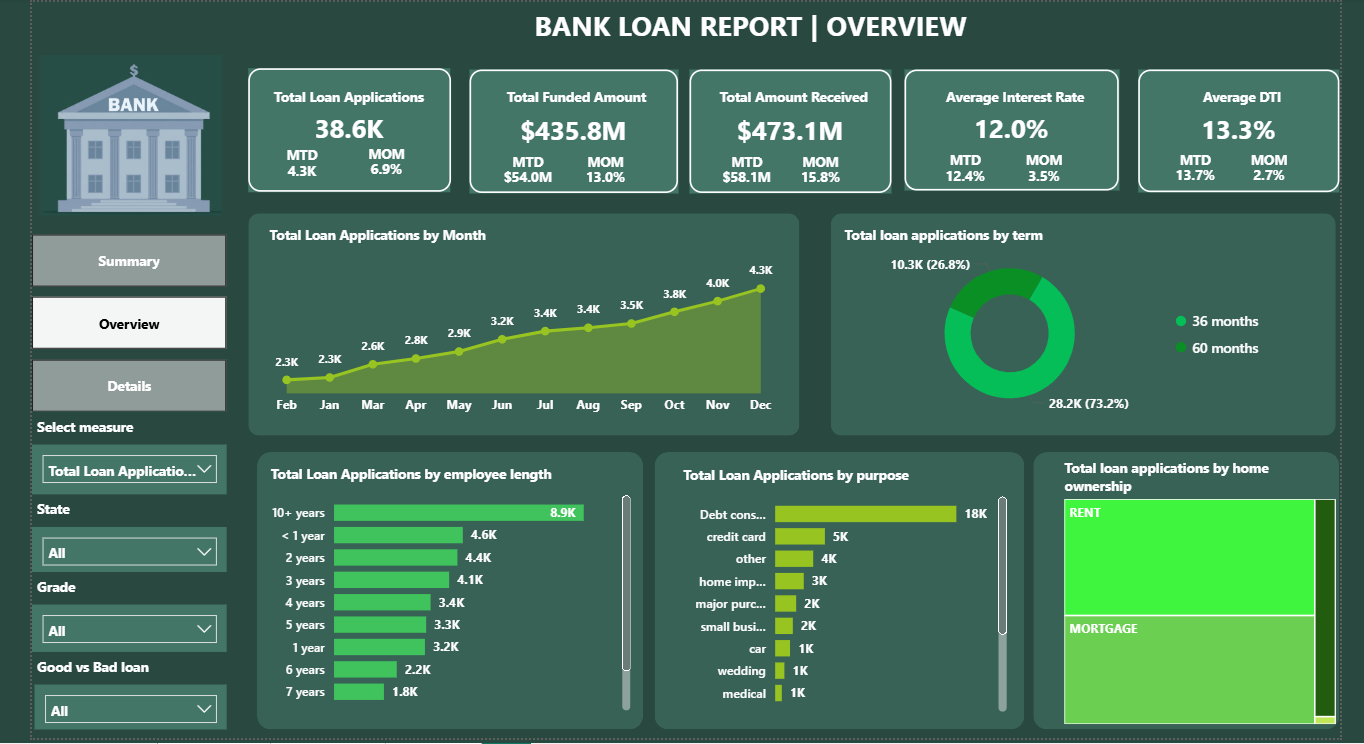

The page's visual inventory and layout, read from the dashboard file:
{"tool":"powerbi","page":{"name":"Overview","canvas":[1280,720],"ordinal":1},"visuals":[{"type":"textbox","box":[435.3,0,535.6,52.6],"z":0},{"type":"card","title":"Total Loan Applications","fields":{"Values":["financial_loan.Total funded Amount"]},"box":[428,66,204.2,121.1],"z":0,"group":"g1"},{"type":"card","title":"Total Loan Applications","fields":{"Values":["financial_loan.Total Amount Received"]},"box":[643.2,66,197.6,121.1],"z":0,"group":"g4"},{"type":"card","title":"Total Loan Applications","fields":{"Values":["financial_loan.Avg Interest Rate"]},"box":[853.5,66,209.9,118.6],"z":0,"group":"g6"},{"type":"card","title":"Total Loan Applications","fields":{"Values":["financial_loan.Avg DTI"]},"box":[1082.2,66,196.9,119.8],"z":0,"group":"g7"},{"type":"card","title":"Total Loan Applications","fields":{"Values":["financial_loan.Total Loan Applications"]},"box":[211.6,64.8,198.1,121.1],"z":1000,"group":"g11"},{"type":"card","title":"MTD","fields":{"Values":["financial_loan.MTD Avg Int Rate"]},"box":[873.9,145.1,77.2,39.5],"z":1000,"group":"g6"},{"type":"card","title":"MTD","fields":{"Values":["financial_loan.MTD Avg DTI"]},"box":[1101.3,145.9,72.5,39.9],"z":1000,"group":"g7"},{"type":"card","title":"MTD","fields":{"Values":["financial_loan.MTD Funded Amount"]},"box":[447.9,146.7,75.2,40.4],"z":1000,"group":"g1"},{"type":"card","title":"MTD","fields":{"Values":["financial_loan.MTD Total Amount Received"]},"box":[662.4,146.7,72.7,40.4],"z":1000,"group":"g4"},{"type":"shape","box":[211.6,206.7,539.3,217.7],"z":1000},{"type":"group","id":"g1","title":"Group 2","box":[428,66,204.2,121.1],"z":1001,"group":"g9"},{"type":"group","id":"g2","title":"Group 2","box":[643.2,66,197.6,121.1],"z":1001,"group":"g10"},{"type":"group","id":"g3","title":"Group 3","box":[1082.2,66,196.9,119.8],"z":2000},{"type":"textbox","box":[873.9,77.9,174.9,31.6],"z":2000,"group":"g6"},{"type":"textbox","box":[1101.3,78,164.1,32],"z":2000,"group":"g7"},{"type":"textbox","box":[447.9,78.1,170.2,32.3],"z":2000,"group":"g1"},{"type":"textbox","box":[662.4,78.1,164.7,32.3],"z":2000,"group":"g4"},{"type":"card","title":"MTD","fields":{"Values":["financial_loan.MTD Loan Applications"]},"box":[227.5,140.6,73.4,40.4],"z":2000,"group":"g11"},{"type":"group","id":"g4","title":"Group 3","box":[643.2,66,197.6,121.1],"z":2001,"group":"g2"},{"type":"group","id":"g5","title":"Group 3","box":[853.5,66,209.9,118.6],"z":2001,"group":"g8"},{"type":"group","id":"g6","title":"Group 4","box":[853.5,66,209.9,118.6],"z":2002,"group":"g5"},{"type":"group","id":"g7","title":"Group 4","box":[1082.2,66,196.9,119.8],"z":2002,"group":"g3"},{"type":"group","id":"g8","title":"Group 2","box":[853.5,66,209.1,118.6],"z":3000},{"type":"card","title":"MOM","fields":{"Values":["financial_loan.MOM Avg Int Rate"]},"box":[951.1,145.1,77.2,39.5],"z":3000,"group":"g6"},{"type":"card","title":"MOM","fields":{"Values":["financial_loan.MOM Avg DTI"]},"box":[1173.8,145.9,72.5,39.9],"z":3000,"group":"g7"},{"type":"card","title":"MOM","fields":{"Values":["financial_loan.MOM Funded Amount"]},"box":[523,146.7,75.2,40.4],"z":3000,"group":"g1"},{"type":"card","title":"MOM","fields":{"Values":["financial_loan.MOM Total Amount Received"]},"box":[735.1,146.7,72.7,40.4],"z":3000,"group":"g4"},{"type":"shape","box":[781.4,206.7,494,217.7],"z":4000},{"type":"group","id":"g9","title":"Group 1","box":[428,66,204.2,121.1],"z":5000},{"type":"textbox","box":[227.5,78.3,165.1,33],"z":5000,"group":"g11"},{"type":"group","id":"g10","title":"Group 1","box":[643.2,66,198.1,121.1],"z":6000},{"type":"group","id":"g11","title":"Group 5","box":[211.6,64.8,198.1,121.1],"z":7000},{"type":"card","title":"MOM","fields":{"Values":["financial_loan.MOM Loan Applications"]},"box":[310.6,139.4,72.1,40.4],"z":7000,"group":"g11"},{"type":"shape","box":[220.1,440.2,377.9,271.5],"z":8000},{"type":"slicer","fields":{"Values":["financial_loan.address_state"]},"box":[0,513.6,190.8,44],"z":9000},{"type":"textbox","box":[0,481.8,79.5,31.8],"z":10000},{"type":"slicer","fields":{"Values":["financial_loan.grade"]},"box":[0,589.4,190.8,46.5],"z":11000},{"type":"textbox","box":[0,557.6,79.5,31.8],"z":12000},{"type":"slicer","fields":{"Values":["financial_loan.Good vs Bad Loan"]},"box":[2.4,667.7,188.3,44],"z":13000},{"type":"textbox","box":[0,635.9,149.2,31.8],"z":14000},{"type":"areaChart","fields":{"Y":["financial_loan.Total Loan Applications"],"Category":["Date Table.Month"]},"box":[227.4,218.9,507.5,193.2],"z":15000},{"type":"slicer","fields":{"Values":["Parameter.Parameter"]},"box":[0,432.9,190.8,48.9],"z":16000},{"type":"textbox","box":[0,401.1,134.5,31.8],"z":17000},{"type":"donutChart","title":"Total loan applications by term","fields":{"Y":["financial_loan.Total Loan Applications"],"Category":["financial_loan.term"]},"box":[789.9,218.9,424.3,193.2],"z":18000},{"type":"shape","box":[609,440.2,362,271.5],"z":19000},{"type":"shape","box":[979.5,440.2,299.6,271.5],"z":20000},{"type":"treemap","title":"Total loan applications by home ownership","fields":{"Values":["financial_loan.Total Loan Applications"],"Group":["financial_loan.home_ownership"]},"box":[1005.2,446.3,275.1,265.4],"z":21000},{"type":"pageNavigator","box":[0,227.4,190.8,173.6],"z":22000},{"type":"barChart","fields":{"Y":["financial_loan.Total Loan Applications"],"Category":["financial_loan.emp_length"]},"box":[228.7,452.4,362,245.8],"z":23000},{"type":"barChart","fields":{"Y":["financial_loan.Total Loan Applications"],"Category":["financial_loan.purpose"]},"box":[632.2,453.7,326.5,245.8],"z":24000},{"type":"image","box":[2.4,41.6,188.3,177.3],"z":24001}]}

Visuals, with their boxes on the page's 1280x720 design canvas (x1, y1, x2, y2). These are canvas units, not pixel positions in the 1364x744 screenshot, which may show the page scaled, cropped or inside an application window:
textbox: crop(435, 0, 971, 53)
"Total Loan Applications" card: crop(428, 66, 632, 187)
"Total Loan Applications" card: crop(643, 66, 841, 187)
"Total Loan Applications" card: crop(854, 66, 1063, 185)
"Total Loan Applications" card: crop(1082, 66, 1279, 186)
"Total Loan Applications" card: crop(212, 65, 410, 186)
"MTD" card: crop(874, 145, 951, 185)
"MTD" card: crop(1101, 146, 1174, 186)
"MTD" card: crop(448, 147, 523, 187)
"MTD" card: crop(662, 147, 735, 187)
shape: crop(212, 207, 751, 424)
"Group 2" group: crop(428, 66, 632, 187)
"Group 2" group: crop(643, 66, 841, 187)
"Group 3" group: crop(1082, 66, 1279, 186)
textbox: crop(874, 78, 1049, 110)
textbox: crop(1101, 78, 1265, 110)
textbox: crop(448, 78, 618, 110)
textbox: crop(662, 78, 827, 110)
"MTD" card: crop(228, 141, 301, 181)
"Group 3" group: crop(643, 66, 841, 187)
"Group 3" group: crop(854, 66, 1063, 185)
"Group 4" group: crop(854, 66, 1063, 185)
"Group 4" group: crop(1082, 66, 1279, 186)
"Group 2" group: crop(854, 66, 1063, 185)
"MOM" card: crop(951, 145, 1028, 185)
"MOM" card: crop(1174, 146, 1246, 186)
"MOM" card: crop(523, 147, 598, 187)
"MOM" card: crop(735, 147, 808, 187)
shape: crop(781, 207, 1275, 424)
"Group 1" group: crop(428, 66, 632, 187)
textbox: crop(228, 78, 393, 111)
"Group 1" group: crop(643, 66, 841, 187)
"Group 5" group: crop(212, 65, 410, 186)
"MOM" card: crop(311, 139, 383, 180)
shape: crop(220, 440, 598, 712)
slicer - financial_loan.address_state: crop(0, 514, 191, 558)
textbox: crop(0, 482, 80, 514)
slicer - financial_loan.grade: crop(0, 589, 191, 636)
textbox: crop(0, 558, 80, 589)
slicer - financial_loan.Good vs Bad Loan: crop(2, 668, 191, 712)
textbox: crop(0, 636, 149, 668)
areaChart - financial_loan.Total Loan Applications x Date Table.Month: crop(227, 219, 735, 412)
slicer - Parameter.Parameter: crop(0, 433, 191, 482)
textbox: crop(0, 401, 134, 433)
"Total loan applications by term" donutChart: crop(790, 219, 1214, 412)
shape: crop(609, 440, 971, 712)
shape: crop(980, 440, 1279, 712)
"Total loan applications by home ownership" treemap: crop(1005, 446, 1280, 712)
pageNavigator: crop(0, 227, 191, 401)
barChart - financial_loan.Total Loan Applications x financial_loan.emp_length: crop(229, 452, 591, 698)
barChart - financial_loan.Total Loan Applications x financial_loan.purpose: crop(632, 454, 959, 700)
image: crop(2, 42, 191, 219)
